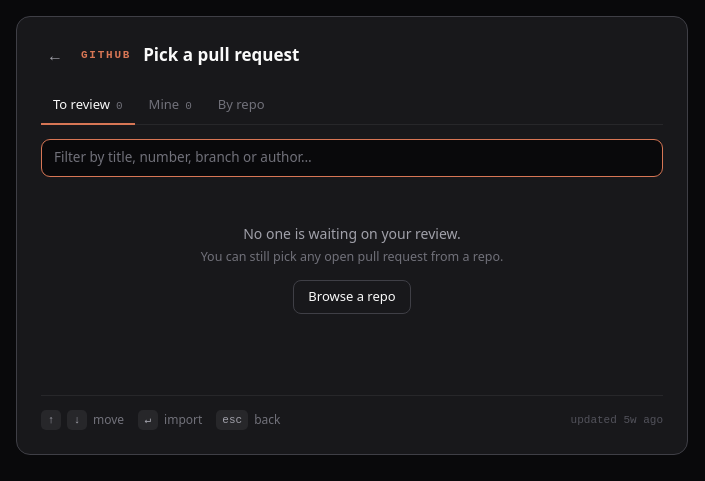
SourcePicker › keeps dependency bots out of a repo list until asked
Click the tab "By repo": {"x": 241, "y": 106} x1=206 y1=87 x2=276 y2=124
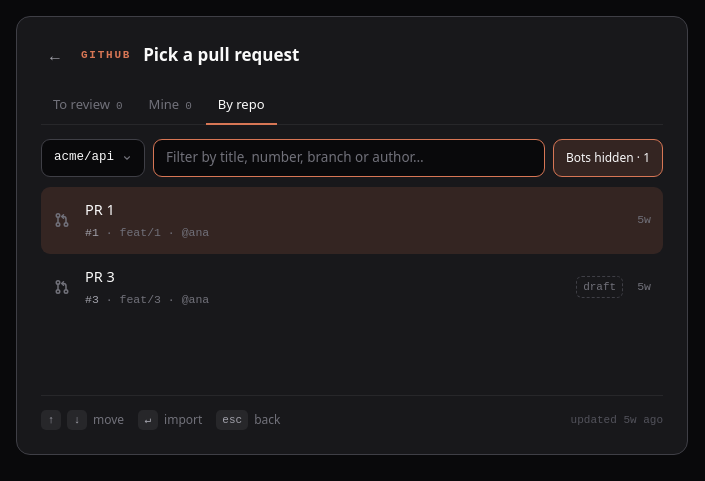
Expected: the text "bump x" is not shown
Result: the text "PR 1" is shown at x1=85 y1=198 x2=115 y2=218
Result: the text "draft" is shown at x1=576 y1=276 x2=623 y2=298
Click the button "Bots hidden · 1": {"x": 608, "y": 158} x1=553 y1=138 x2=663 y2=176
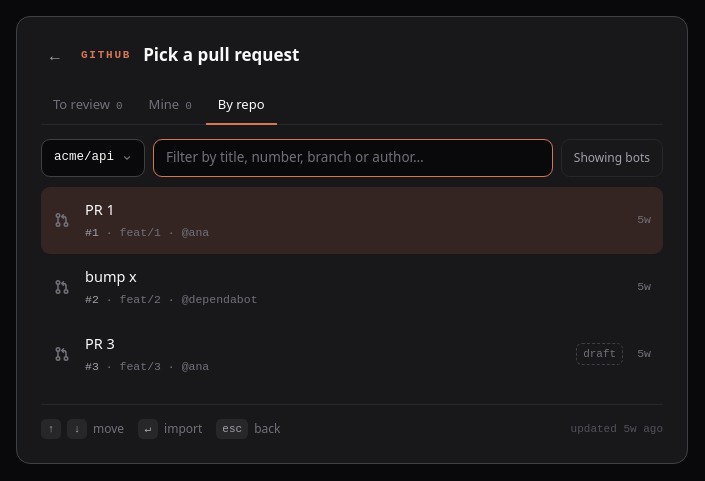
Result: the text "bump x" is shown at x1=85 y1=266 x2=137 y2=286
